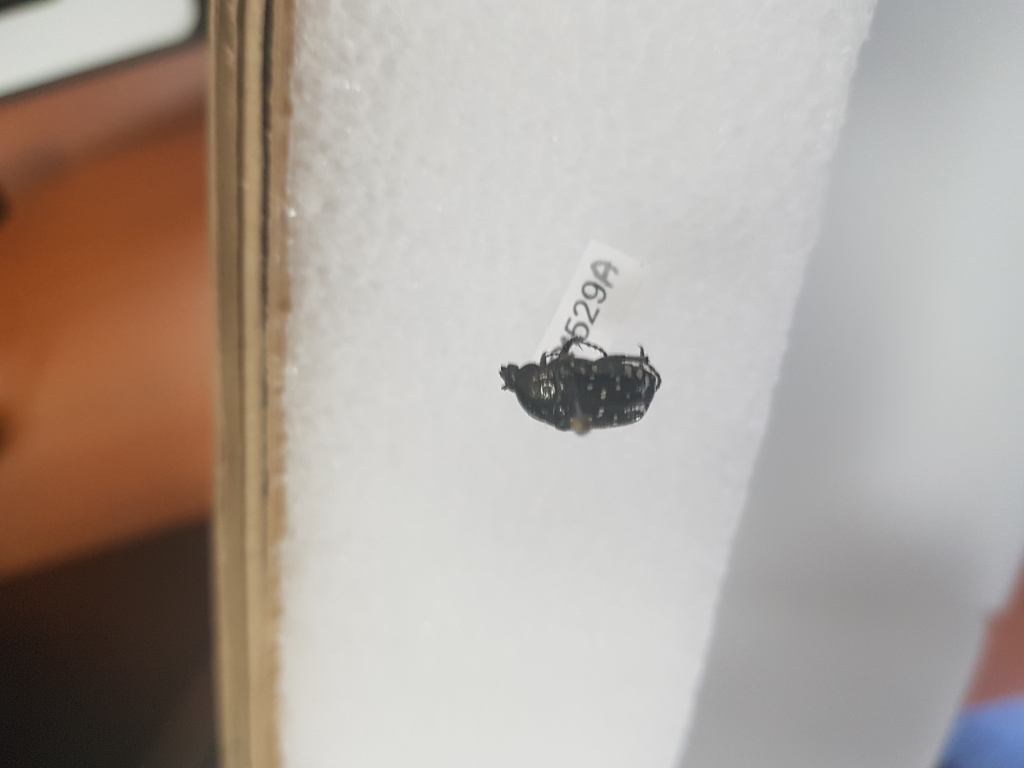Oxythyrea_funesta: (494, 331, 663, 437)
